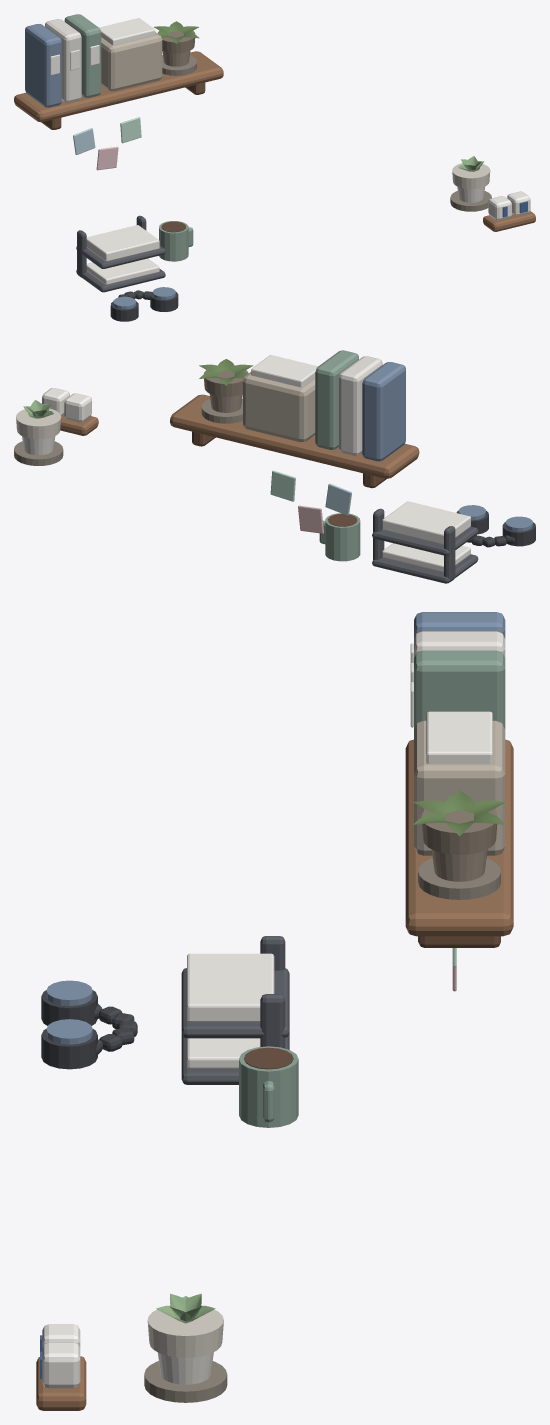
The model's file is desk_personal.glb.
3 views of the same model, one above another, from view 1: azimuth 30°, elevation 25°; view 2: azimuth 150°, elevation 25°; view 3: azimuth 270°, elevation 25° (orthographic). The views are drawn at different scales.
Parts seen in each view (by area): view 1: PersonalShelf, Item0, Item5, ShelfPlant, Item2, Item4, Item3, Item1; view 2: PersonalShelf, Item0, Item5, ShelfPlant, Item3, Item4, Item1, Item2; view 3: PersonalShelf, Item0, ShelfPlant, Item5, Item4, Item1, Item2.
Part boxes in pixels (x1,y1,x2,y2): PersonalShelf: (14, 14, 223, 129); Item0: (76, 215, 165, 292); Item5: (450, 156, 491, 211); ShelfPlant: (153, 21, 199, 75); Item2: (483, 191, 535, 231); Item4: (110, 287, 178, 321); Item3: (73, 117, 141, 170); Item1: (159, 221, 193, 261); PersonalShelf: (170, 350, 419, 488); Item0: (372, 501, 478, 583); Item5: (14, 400, 63, 465); ShelfPlant: (199, 359, 253, 423); Item3: (270, 470, 351, 533); Item4: (456, 505, 535, 547); Item1: (319, 513, 360, 561); Item2: (42, 388, 98, 435); PersonalShelf: (405, 612, 513, 947); Item0: (181, 936, 289, 1084); ShelfPlant: (413, 790, 505, 899); Item5: (144, 1293, 227, 1402); Item4: (41, 980, 137, 1069); Item1: (239, 1046, 298, 1127); Item2: (36, 1324, 86, 1410).
Size of the model in its own units: 1.16 by 0.555 by 0.575.
